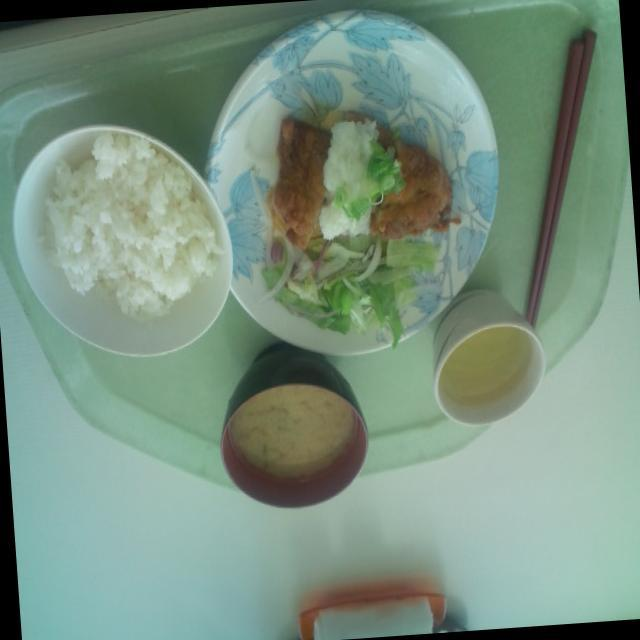Rice: (38, 124, 222, 330)
